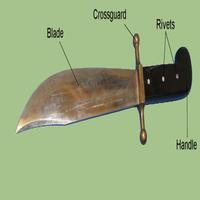knife: (11, 47, 189, 145)
